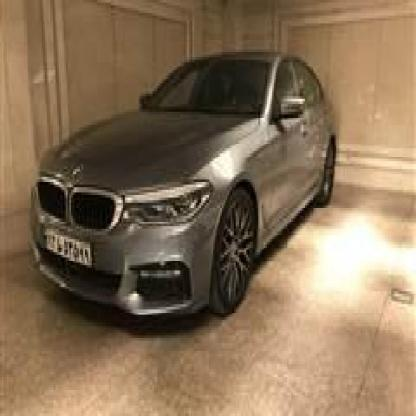Car: (25, 36, 341, 330)
